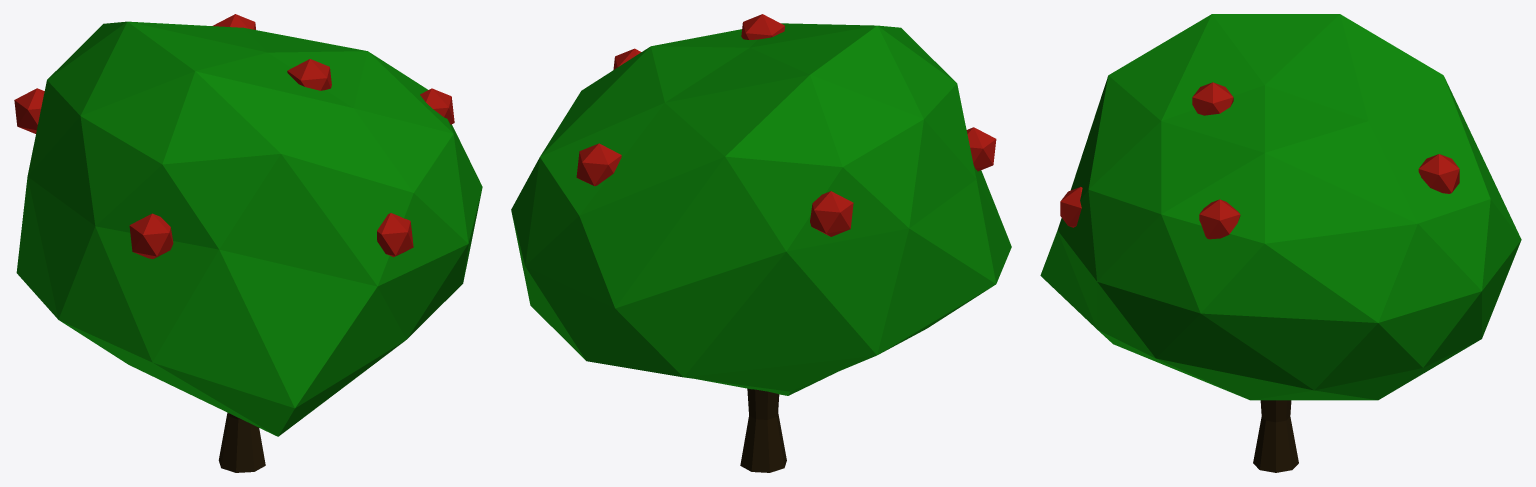
Rendered from bush.obj.
The picture shows the model from 3 angles, left to right: view 1: azimuth 30°, elevation 25°; view 2: azimuth 150°, elevation 25°; view 3: azimuth 270°, elevation 25°; orthographic projection. The views are drawn at different scales.
Parts seen in each view (by area): view 1: Bush3.2_Cylinder; view 2: Bush3.2_Cylinder; view 3: Bush3.2_Cylinder.
Boxes of the visible parts, x1,y1,x2,y2 form: Bush3.2_Cylinder: (14,14,482,472); Bush3.2_Cylinder: (511,14,1011,472); Bush3.2_Cylinder: (1040,14,1521,472).
Size of the model in its own units: 115 by 117 by 124.
